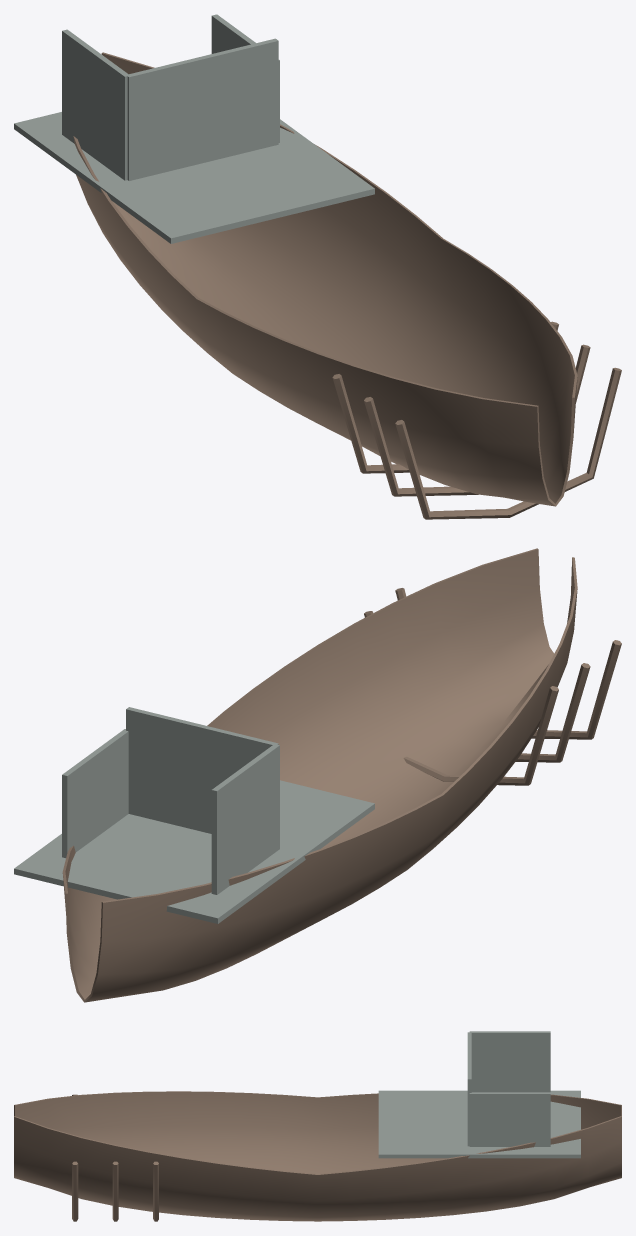
File: barco_abandonado.glb
The picture shows the model from 3 angles, top to bottom: view 1: azimuth 30°, elevation 25°; view 2: azimuth 150°, elevation 25°; view 3: azimuth 270°, elevation 25°; orthographic projection. The views are drawn at different scales.
Visible parts, largest first — view 1: barco_abandonado; view 2: barco_abandonado; view 3: barco_abandonado.
Part boxes in pixels (x1,y1,x2,y2): barco_abandonado: (14,14,621,519); barco_abandonado: (14,548,621,1002); barco_abandonado: (14,1031,621,1221).
Bounding box in the file's own units: 3.63 × 3.42 × 12.02.
